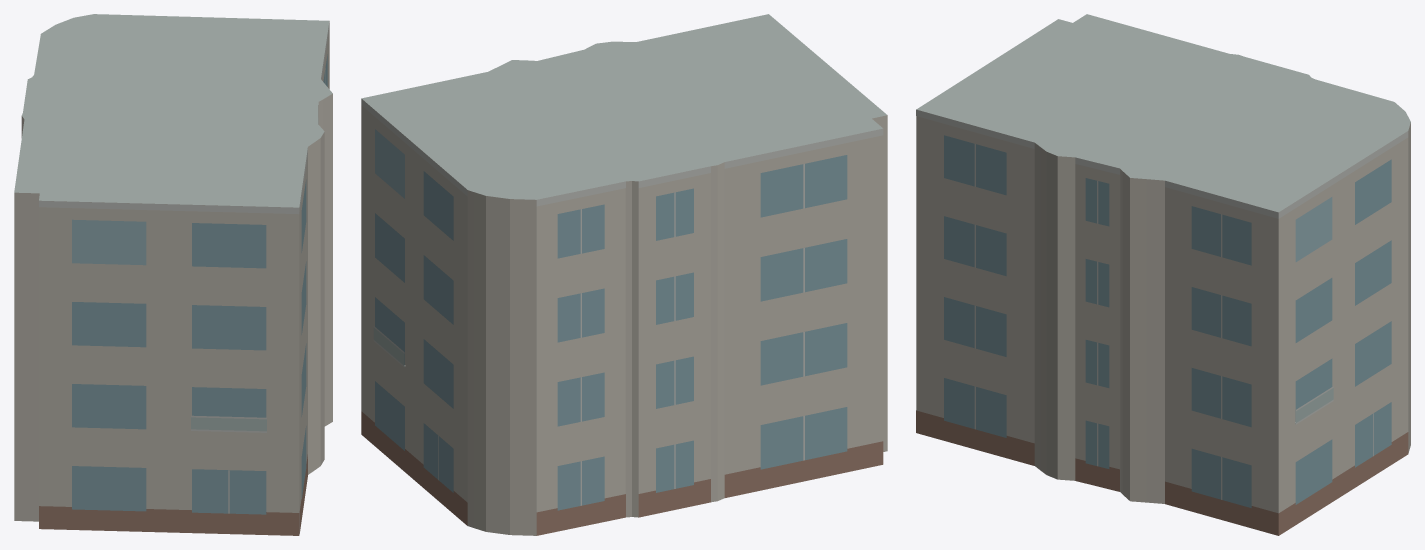
Rendered from survey-upis-32912194.glb.
3 views of the same model, side by side, from view 1: azimuth 30°, elevation 25°; view 2: azimuth 150°, elevation 25°; view 3: azimuth 270°, elevation 25° (orthographic). The views are drawn at different scales.
Visible parts, largest first — view 1: survey-upis-32912194.tmp; view 2: survey-upis-32912194.tmp; view 3: survey-upis-32912194.tmp.
Boxes of the visible parts, box(x1,y1,x2,y2) form: survey-upis-32912194.tmp: box(14, 14, 332, 535); survey-upis-32912194.tmp: box(361, 14, 887, 535); survey-upis-32912194.tmp: box(916, 14, 1410, 535).
Bounding box in the file's own units: 16.06 × 12.2 × 16.92.
